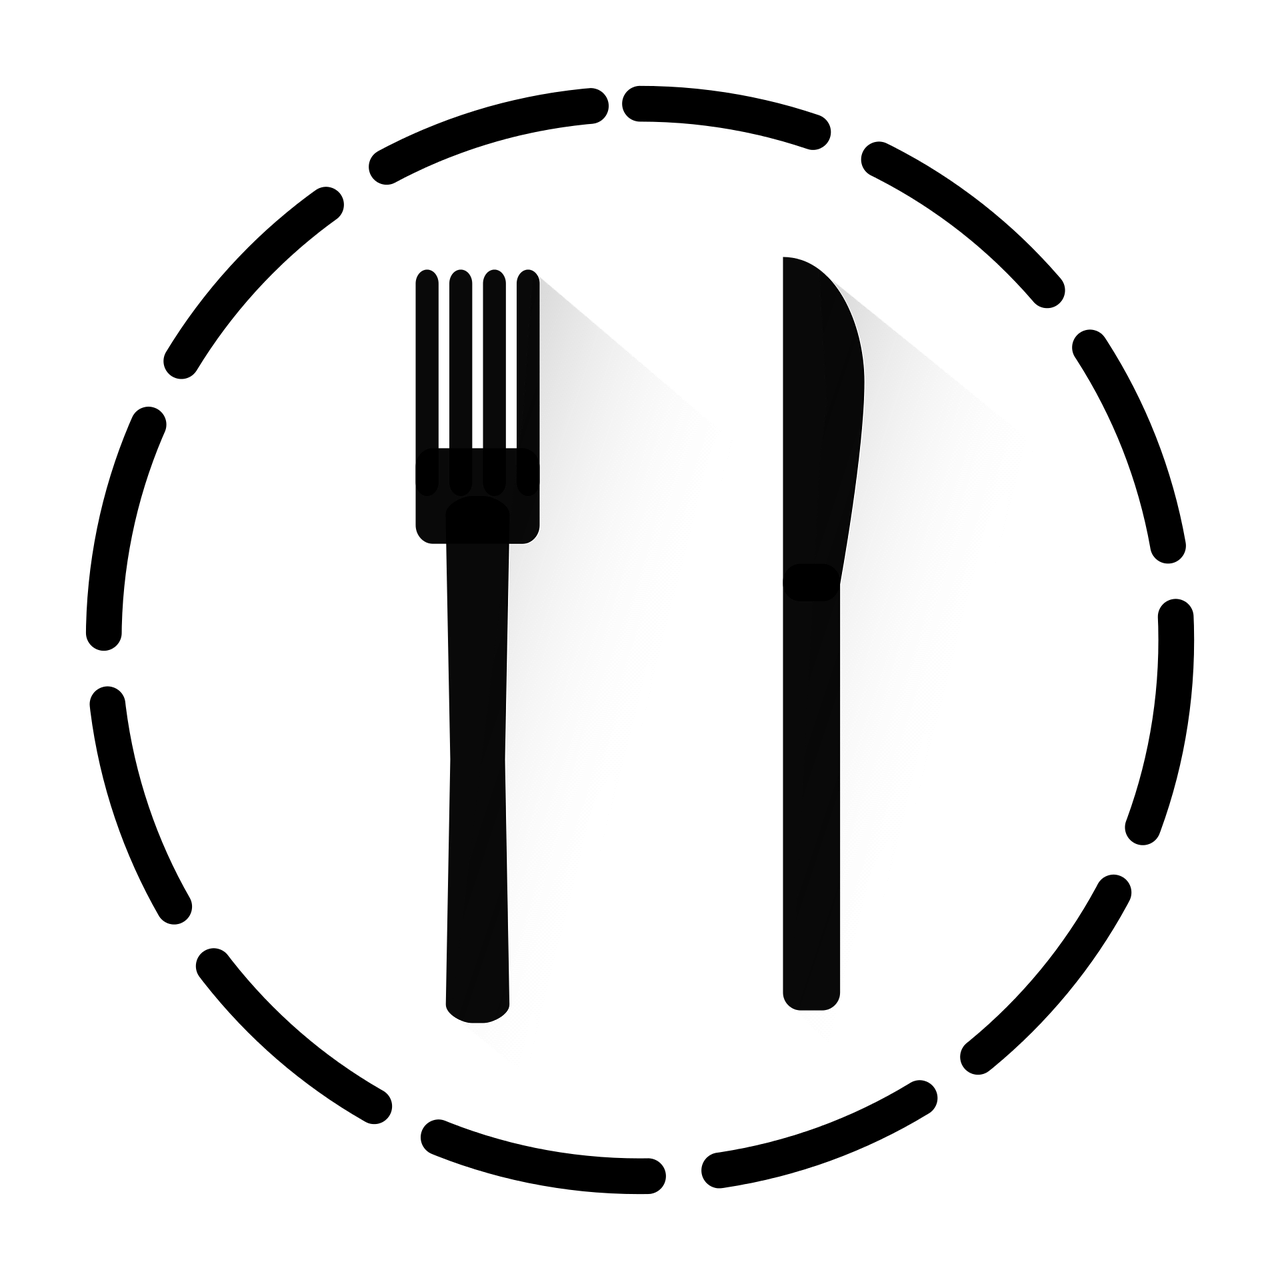knife: (778, 243, 867, 1009)
